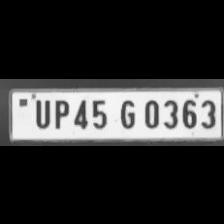0: (139, 96, 161, 128)
3: (160, 96, 180, 128), (198, 96, 218, 128)
4: (70, 96, 90, 128)
5: (86, 96, 110, 128)
6: (178, 96, 198, 128)
G: (114, 96, 138, 128)
P: (50, 96, 70, 128)
U: (30, 96, 52, 128)
